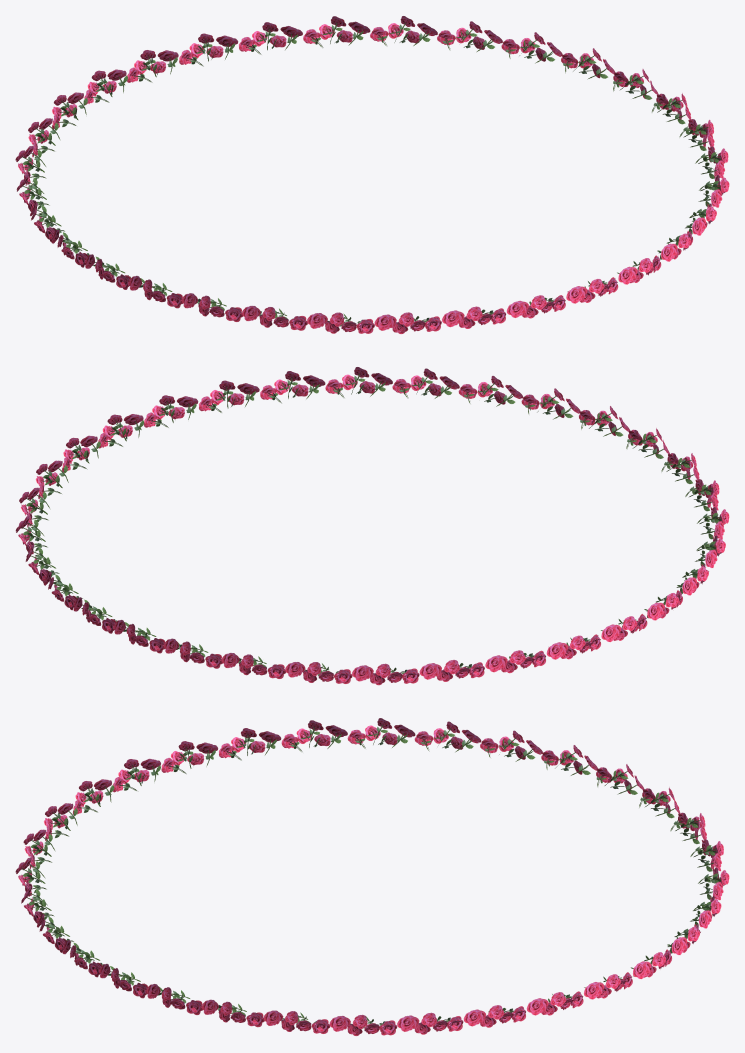
File: Flower.glb
The picture shows the model from 3 angles, top to bottom: view 1: azimuth 30°, elevation 25°; view 2: azimuth 150°, elevation 25°; view 3: azimuth 270°, elevation 25°; orthographic projection.
Parts seen in each view (by area): view 1: Flowers; view 2: Flowers; view 3: Flowers.
Boxes of the visible parts, <box> form: Flowers: <box>15,16,729,333</box>; Flowers: <box>15,367,729,685</box>; Flowers: <box>15,718,729,1035</box>.
Size of the model in its own units: 4.03 by 0.1829 by 4.03.
2 materials, 2 textured.
